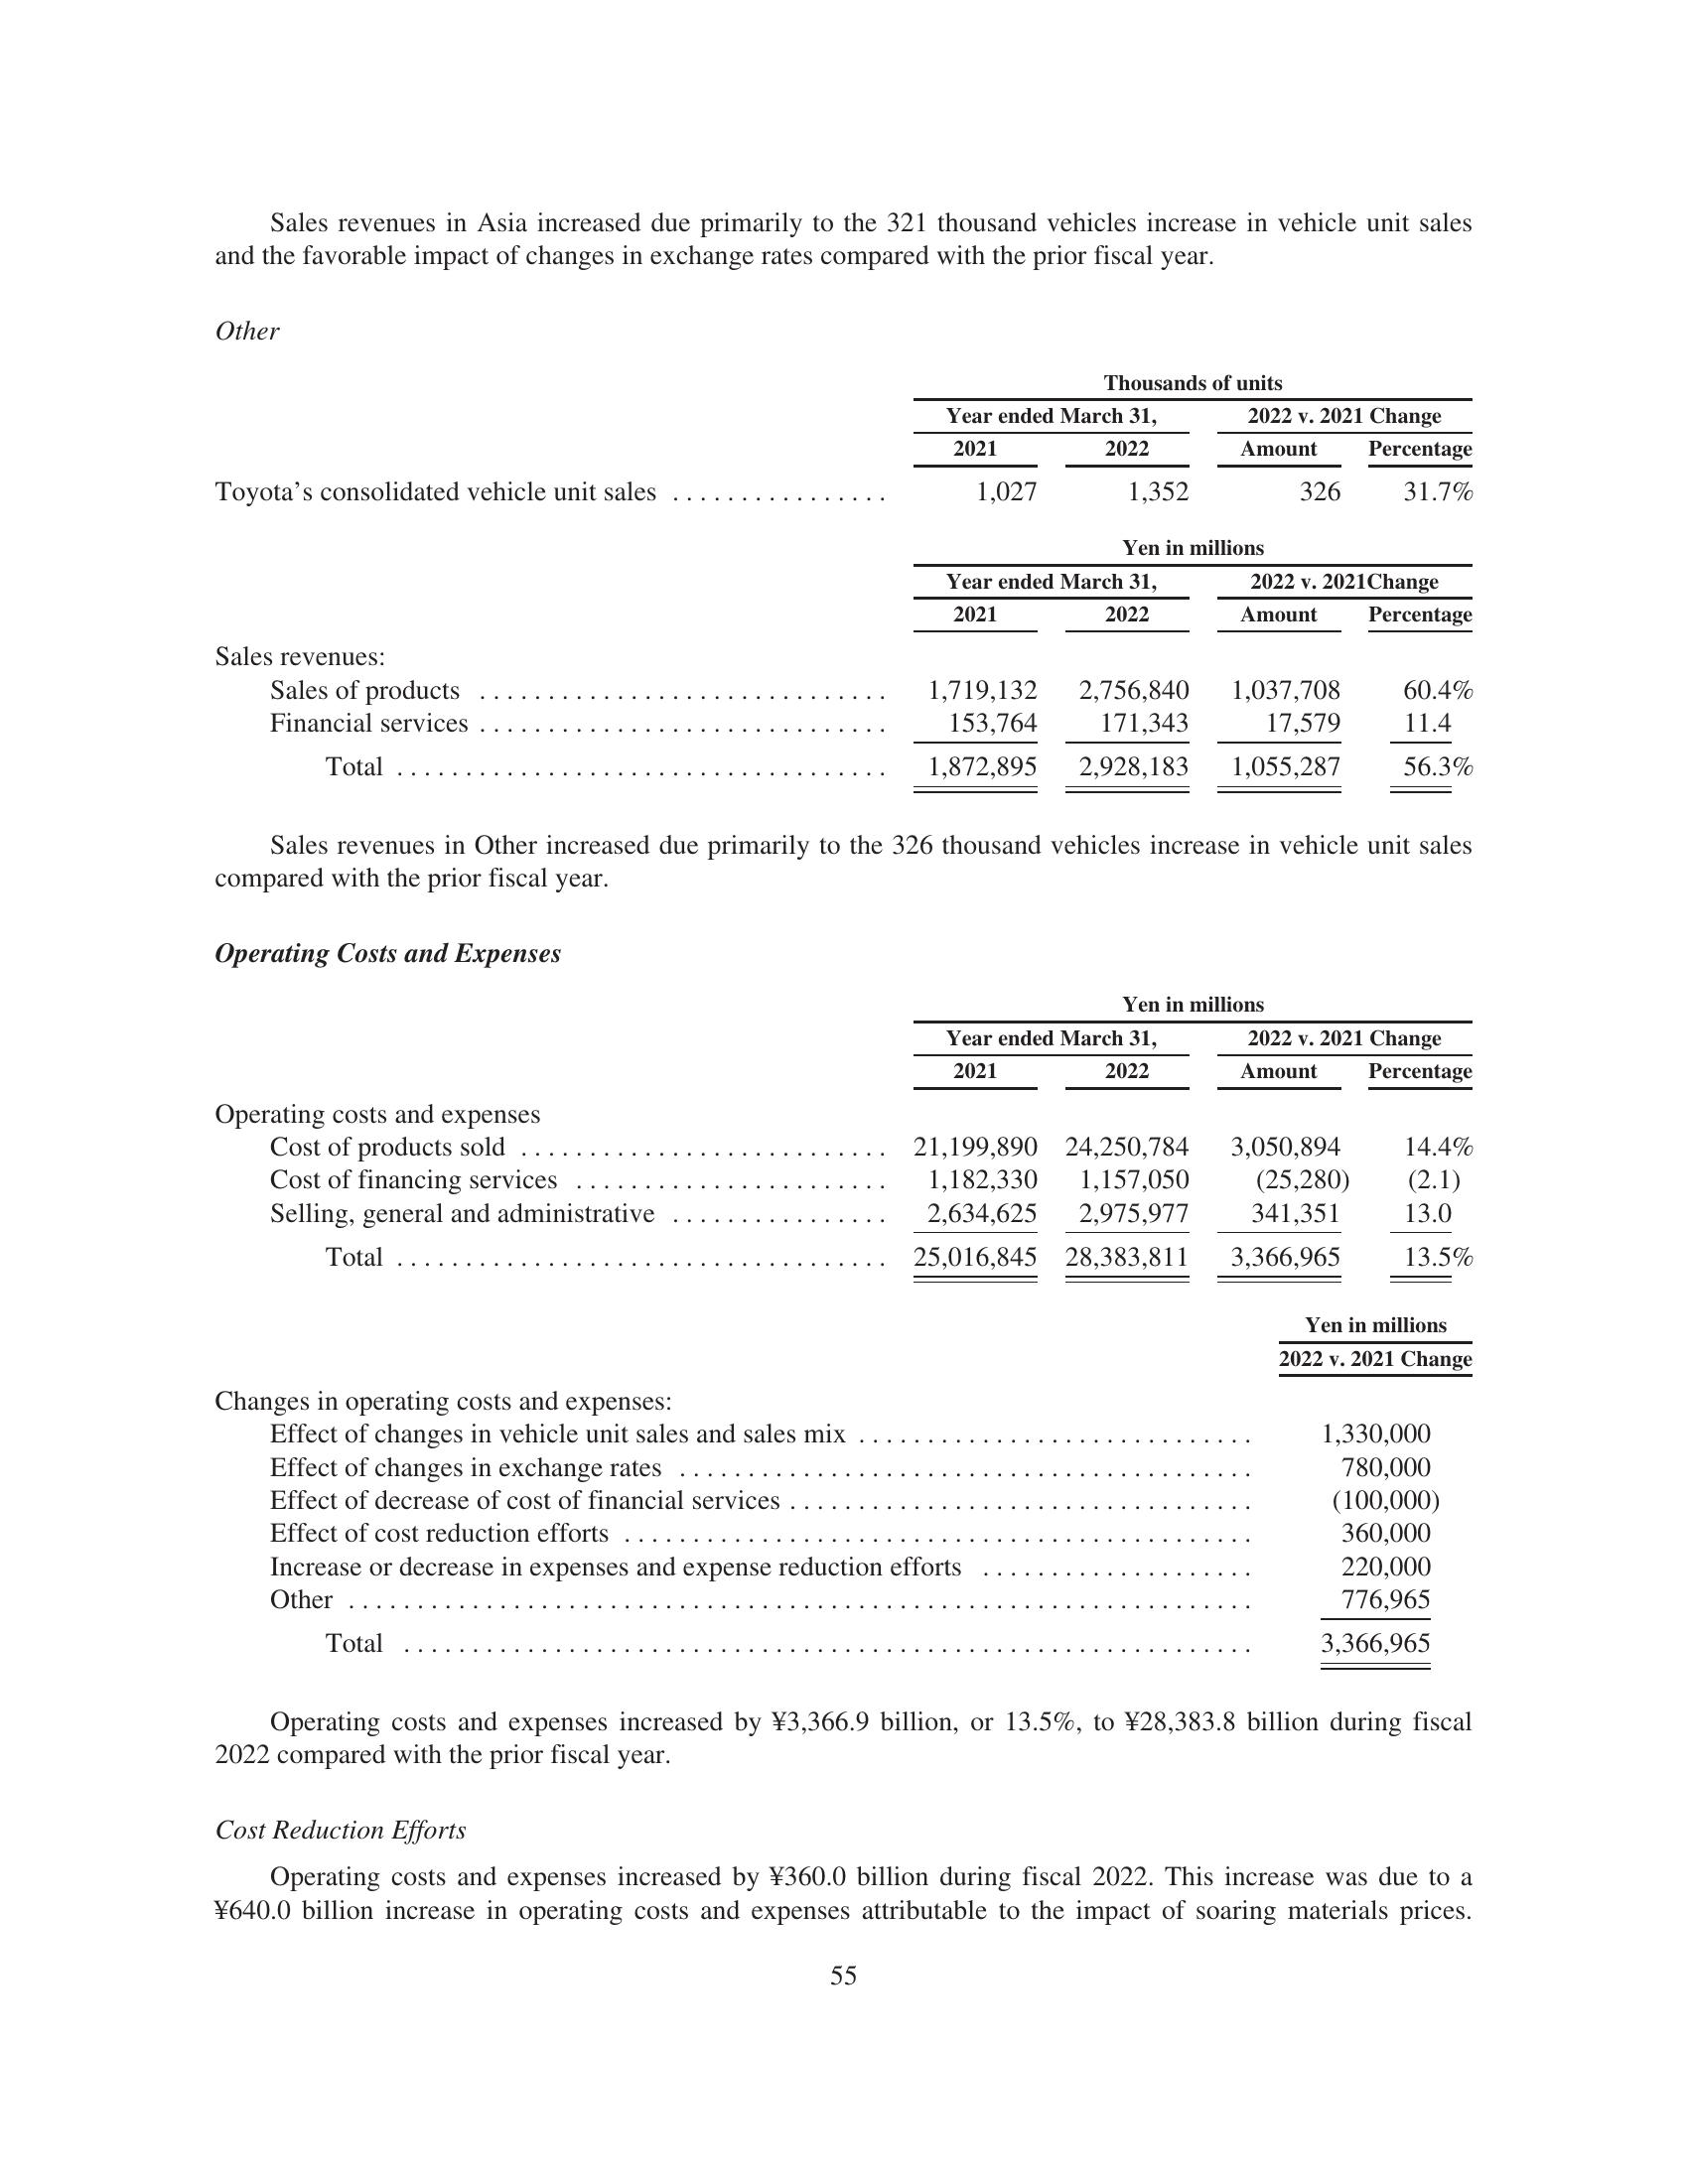Footer: (0, 1946, 1688, 2184)
Header: (0, 0, 1688, 191)
Table: (163, 1303, 1466, 1668), (99, 532, 1551, 817), (154, 991, 1495, 1285), (99, 349, 1555, 519)
